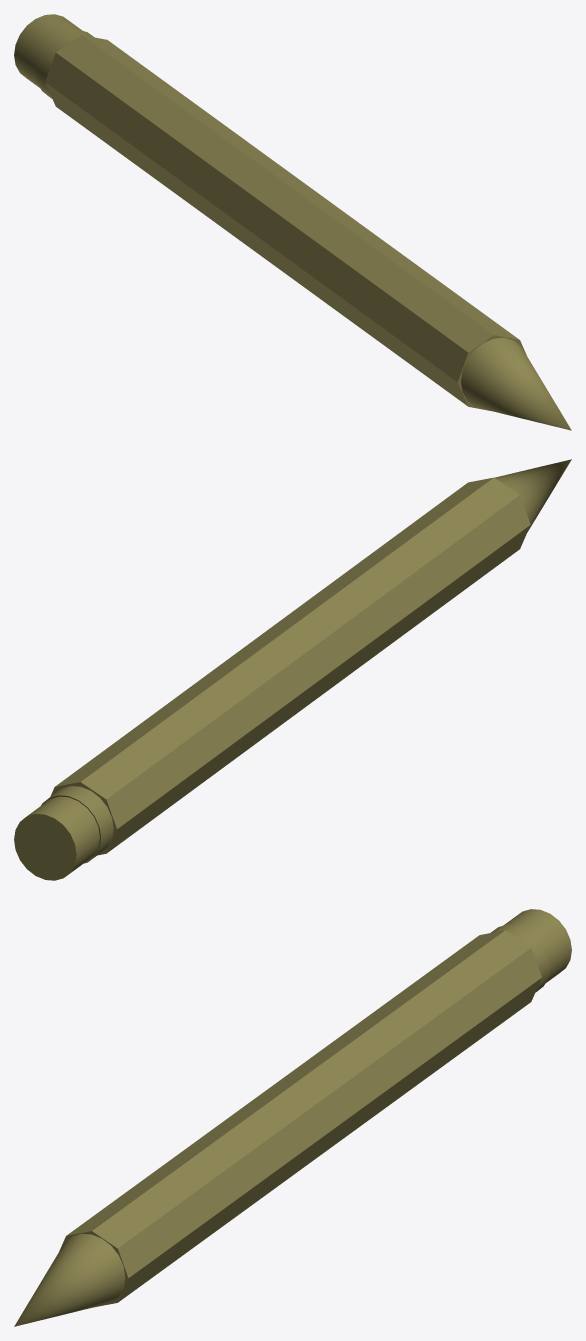
Rendered from New_Pencil.fbx.
The picture shows the model from 3 angles, top to bottom: view 1: azimuth 30°, elevation 25°; view 2: azimuth 150°, elevation 25°; view 3: azimuth 330°, elevation 25°; orthographic projection.
Parts seen in each view (by area): view 1: pCone2; view 2: pCone2; view 3: pCone2.
Part boxes in pixels (x1,y1,x2,y2): pCone2: (14, 14, 571, 430); pCone2: (14, 459, 571, 880); pCone2: (14, 909, 571, 1326).
Size of the model in its own units: 5.96 by 6.1 by 74.33.
